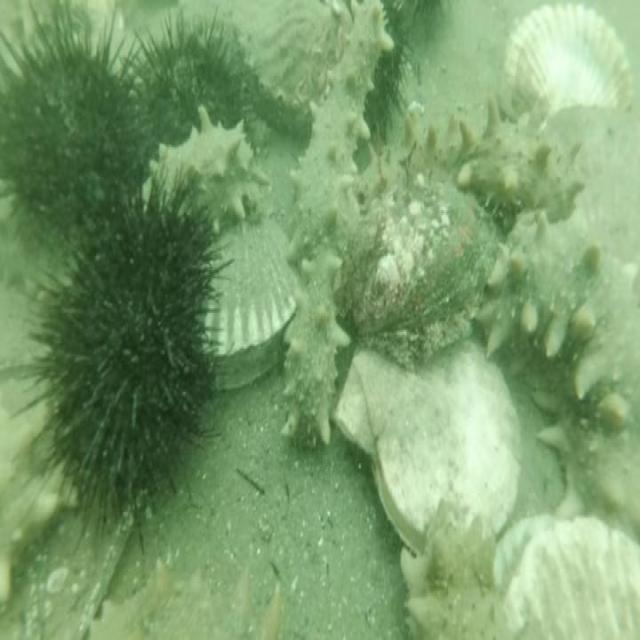echinus: (15, 167, 231, 547), (1, 0, 139, 254), (110, 6, 254, 198), (367, 1, 410, 146)
holothurian: (478, 202, 640, 420), (347, 89, 585, 229), (289, 0, 392, 273), (393, 486, 510, 640), (529, 375, 640, 534), (140, 103, 270, 237)
scallop: (332, 332, 526, 556), (491, 513, 640, 640), (497, 0, 634, 126), (199, 231, 297, 398), (274, 232, 346, 457)
